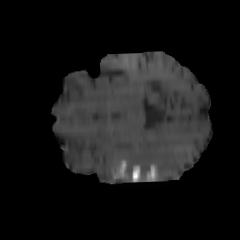glioma: (94, 142, 185, 186)
